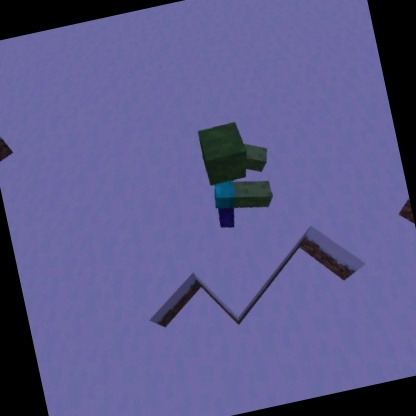zombie: (192, 112, 284, 234)
